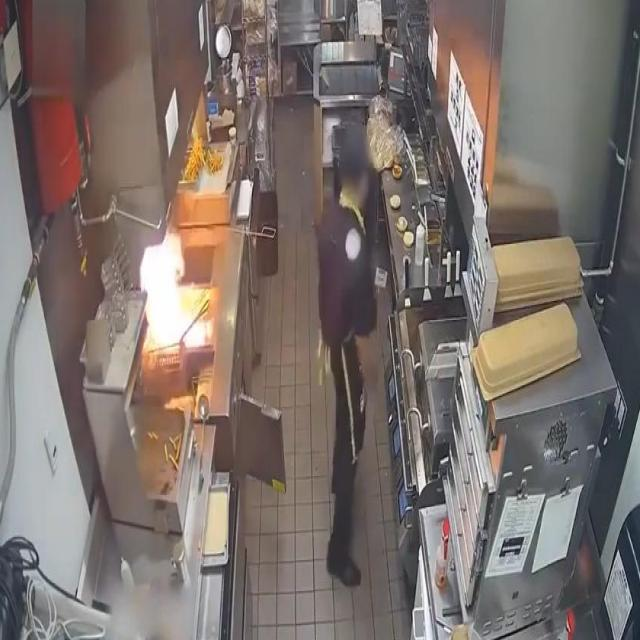smoke: (136, 220, 203, 354)
